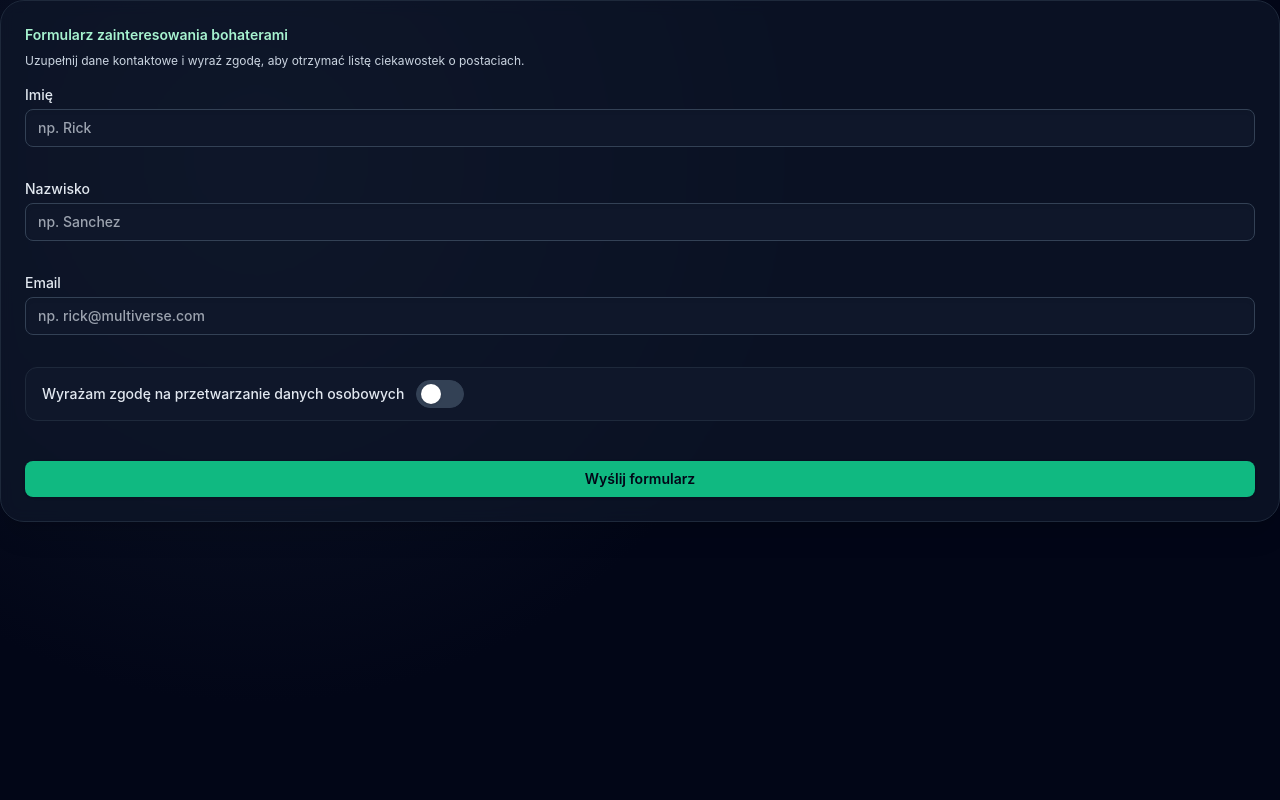
Test case: CharacterConsentForm › submits successfully with valid data and notifies parent
In the field labelled "Imię": (640, 128) left=25, top=109, right=1255, bottom=147, type "Rick"
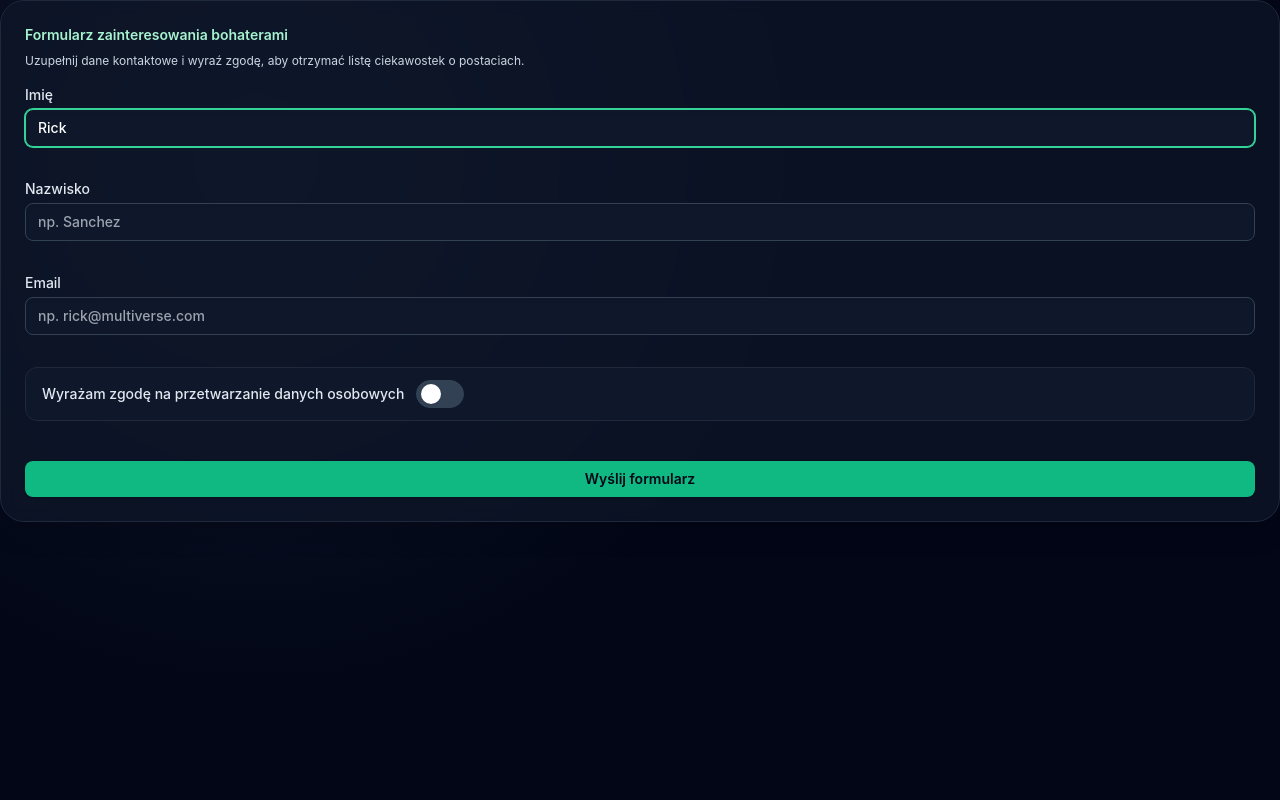
In the field labelled "Nazwisko": (640, 222) left=25, top=203, right=1255, bottom=241, type "Sanchez"
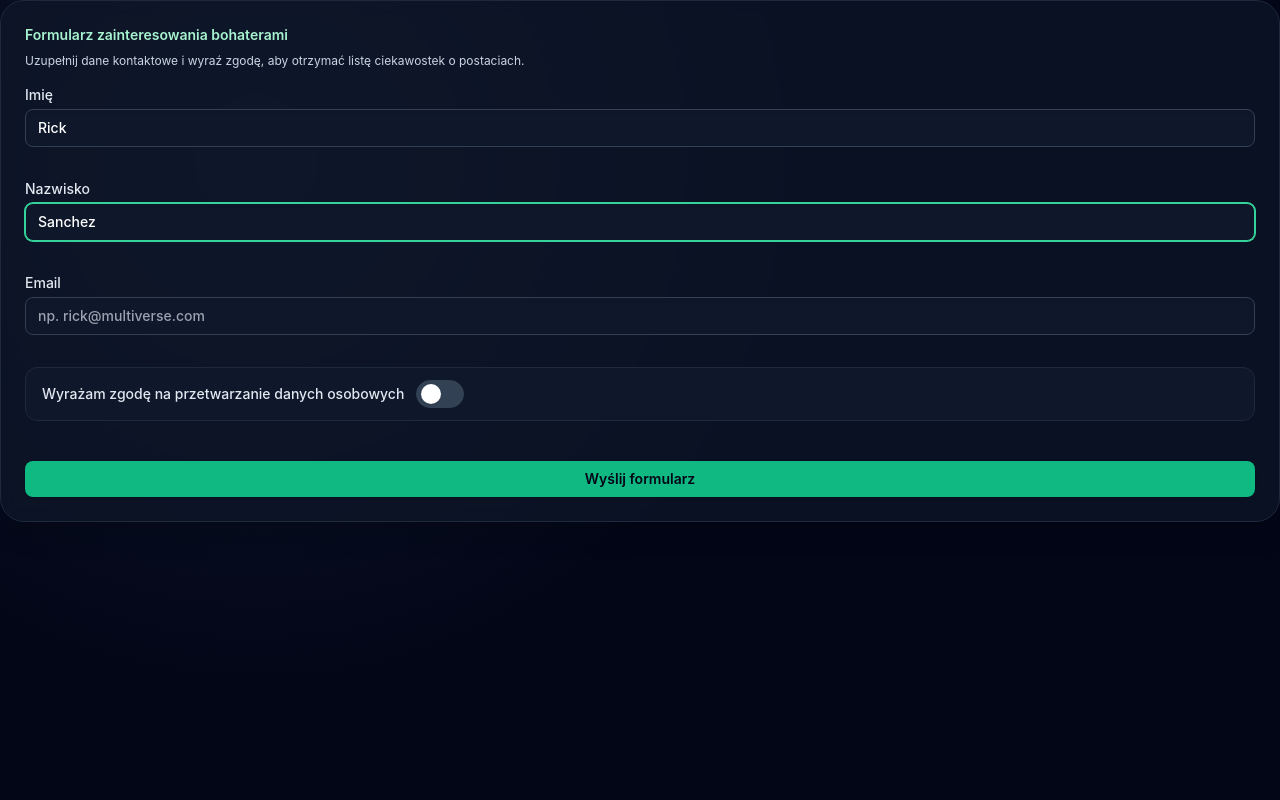
In the field labelled "Email": (640, 316) left=25, top=297, right=1255, bottom=335, type "rick@example.com"
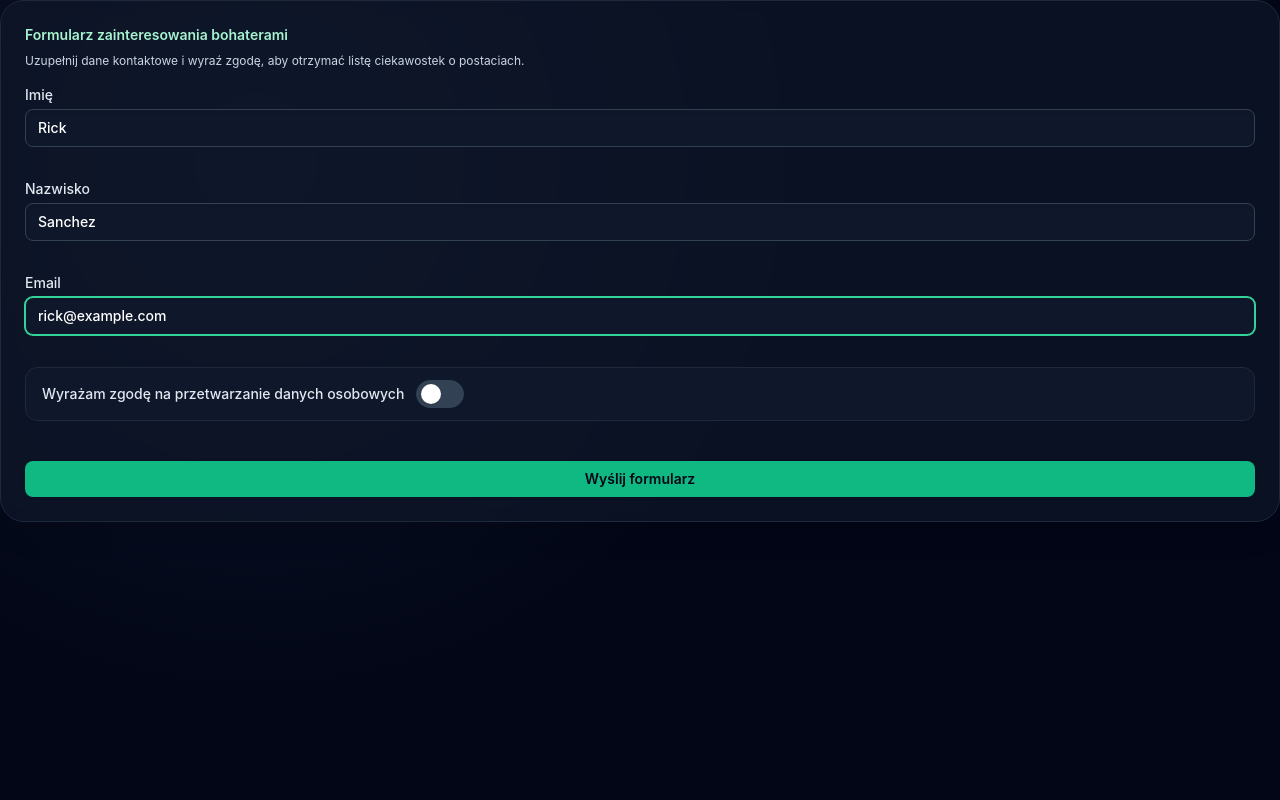
Click the switch named "wyrażam zgodę": (440, 394) left=416, top=380, right=464, bottom=408
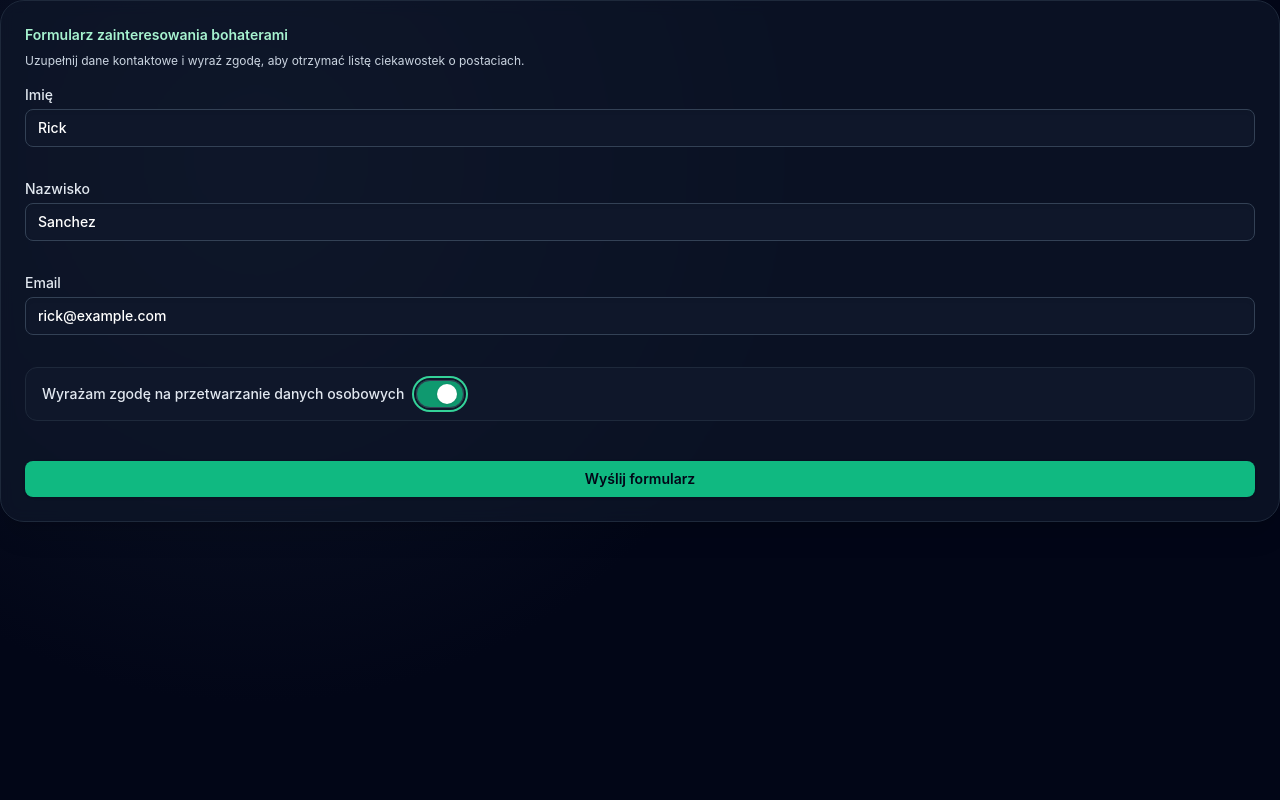
Click the button "Wyślij formularz": (640, 479) left=25, top=461, right=1255, bottom=497
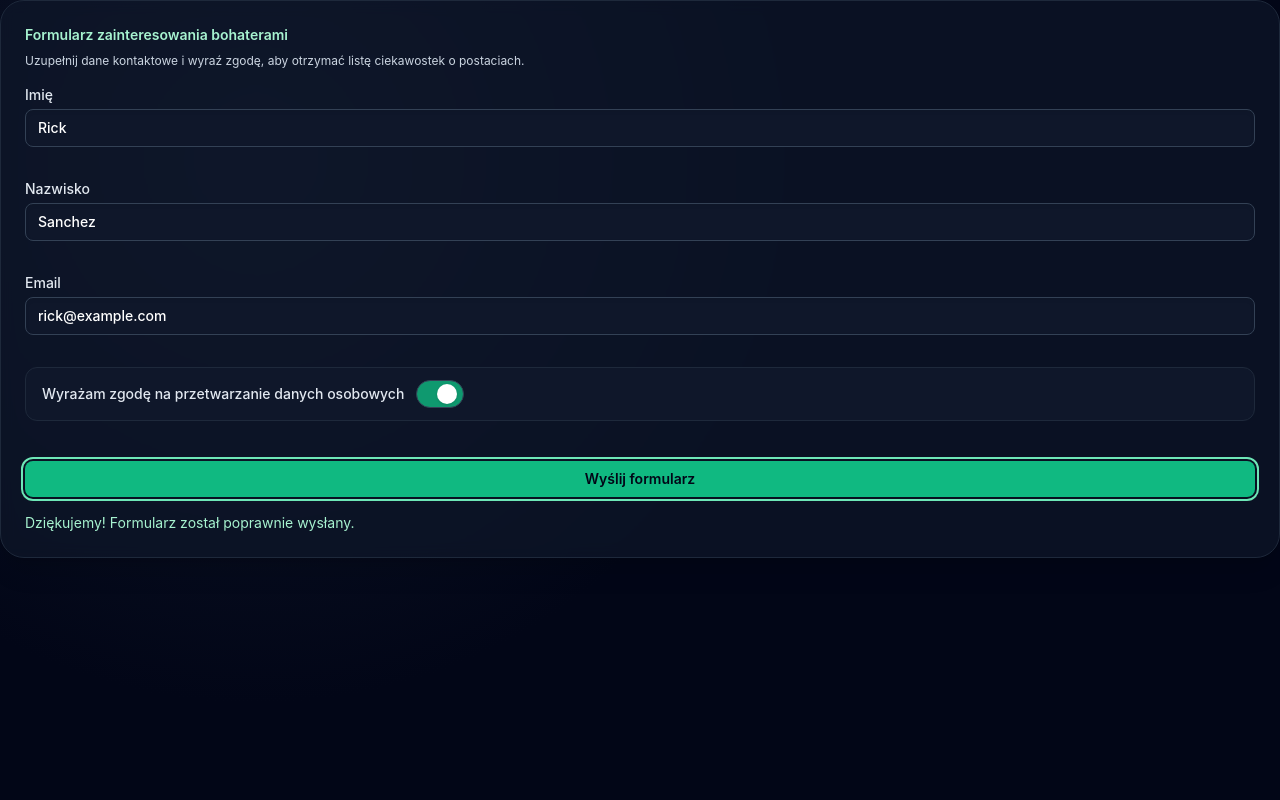
Check: the message reads "Dziękujemy! Formularz został poprawnie wysłany.", box left=25, top=514, right=354, bottom=531
